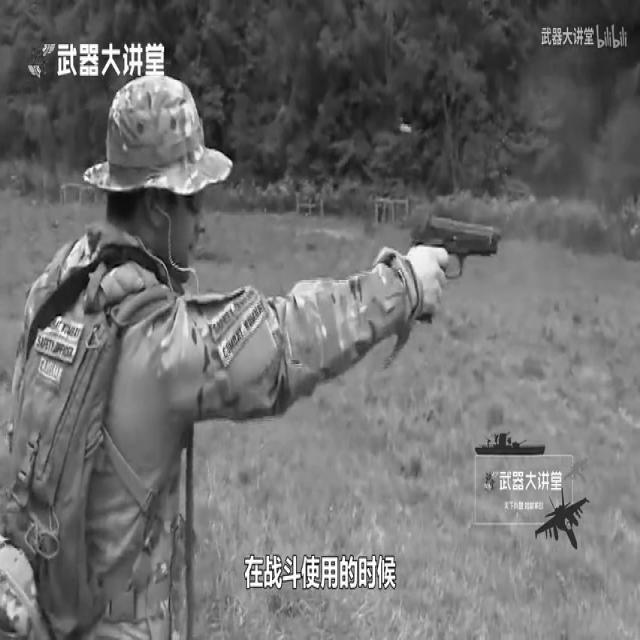Hand-Gun: (401, 128, 543, 378)
